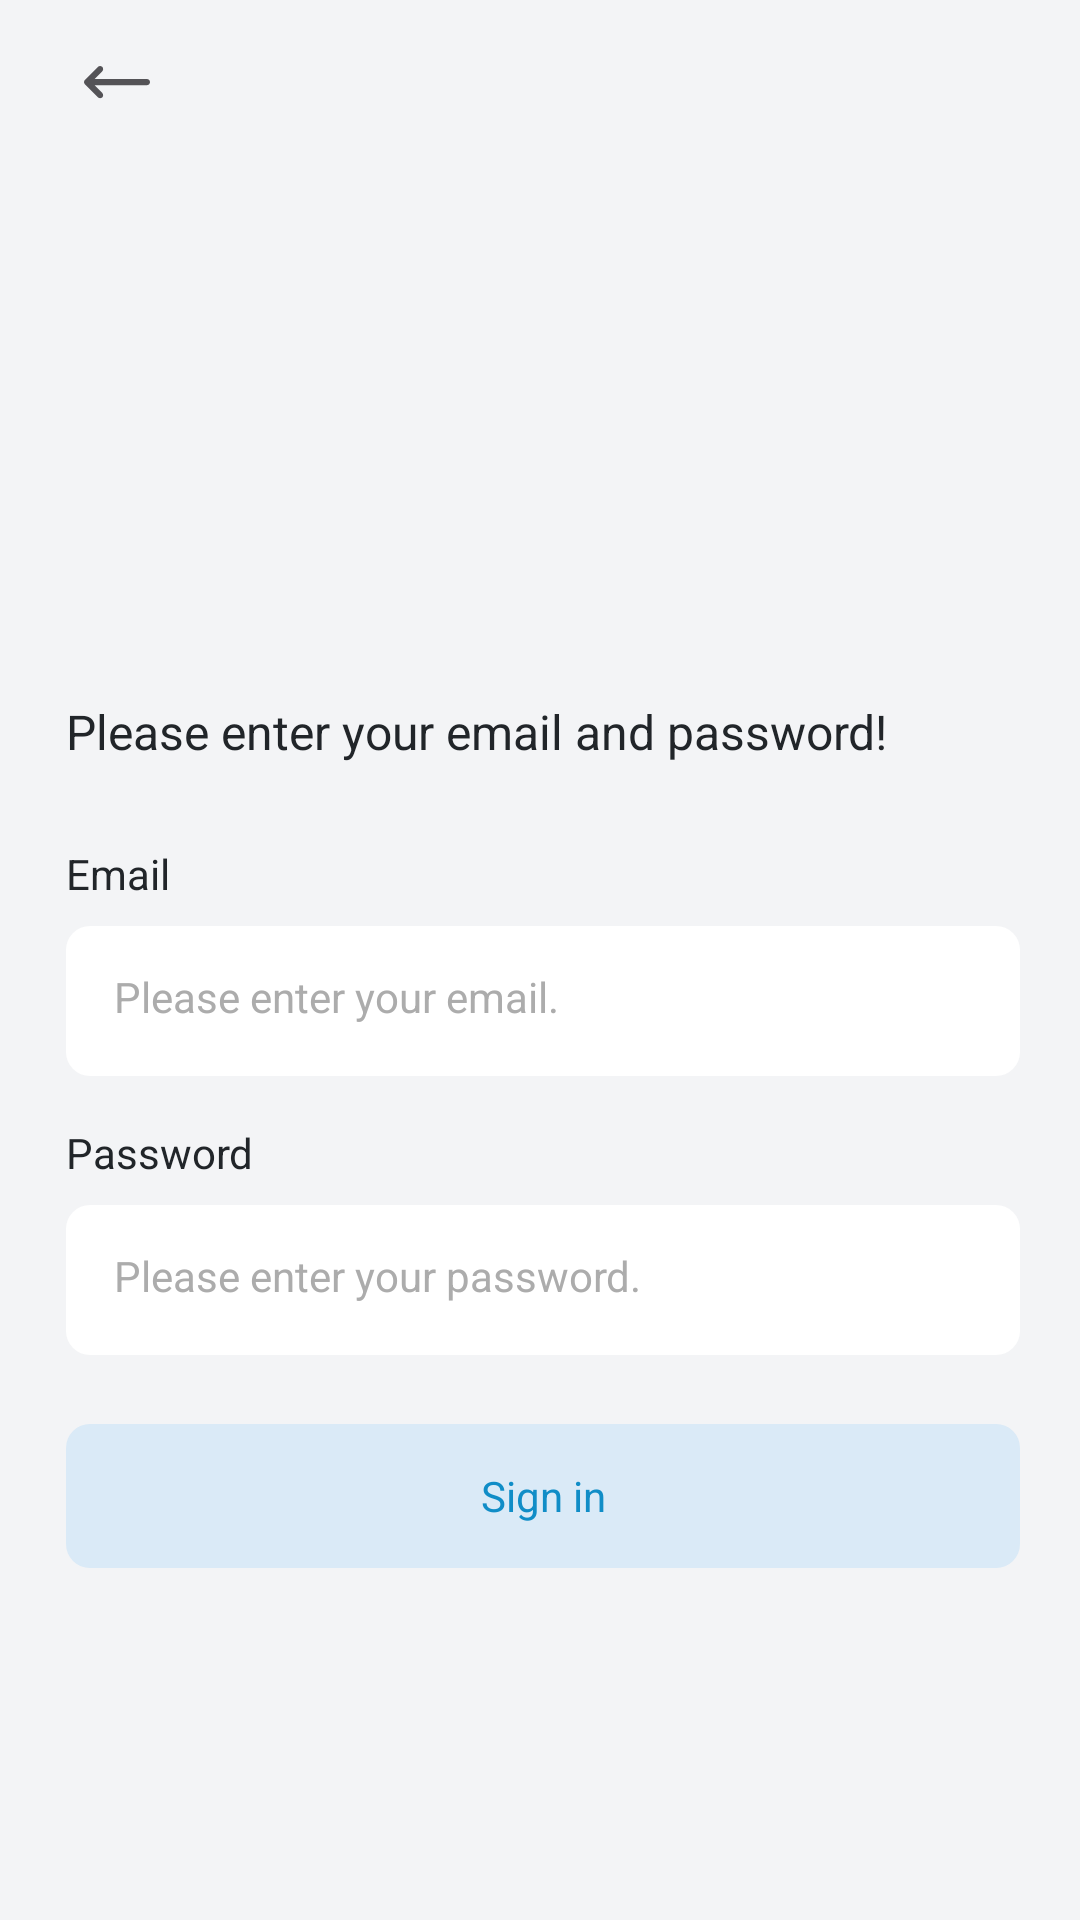

Icon bounding boxes for this 1080x1920 phone screenshot, format bbox=[x1, y1, x2, y2]:
back: bbox=[84, 66, 150, 98]
